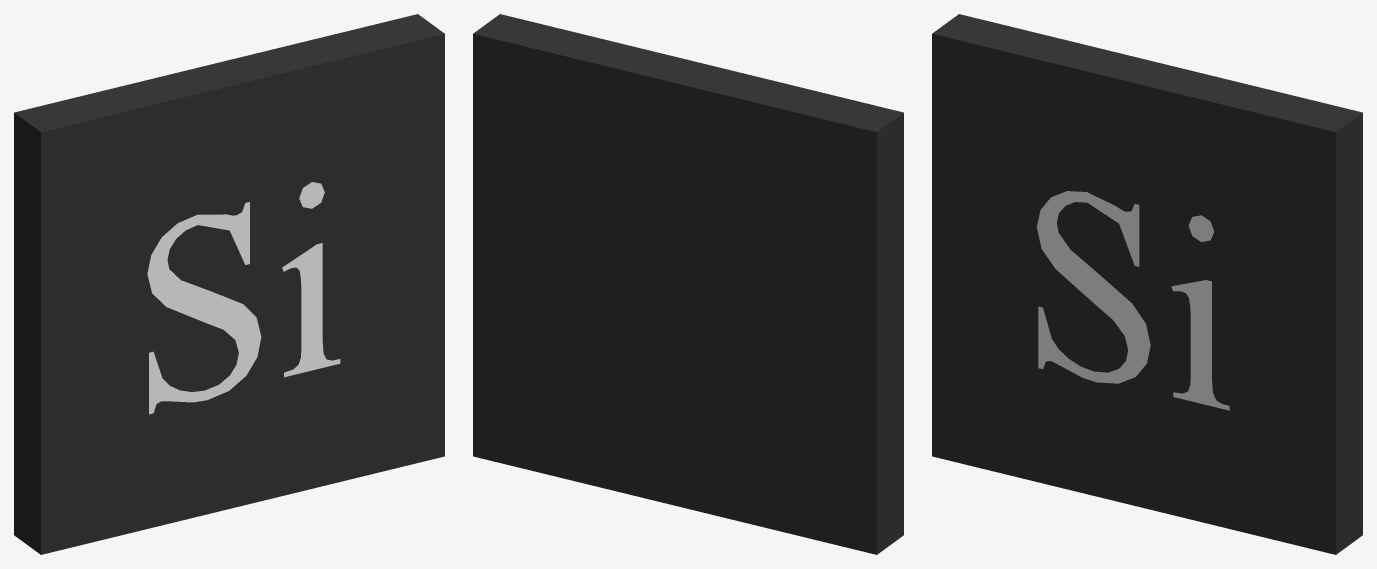
3 views of the same model, side by side, from view 1: azimuth 30°, elevation 25°; view 2: azimuth 150°, elevation 25°; view 3: azimuth 330°, elevation 25° (orthographic).
Visible parts, largest first — view 1: Si; view 2: Si; view 3: Si.
Part boxes in pixels (x1,y1,x2,y2): Si: (14, 14, 444, 554); Si: (473, 14, 903, 554); Si: (932, 14, 1362, 554).
Size of the model in its own units: 15.64 by 15.64 by 1.87.
